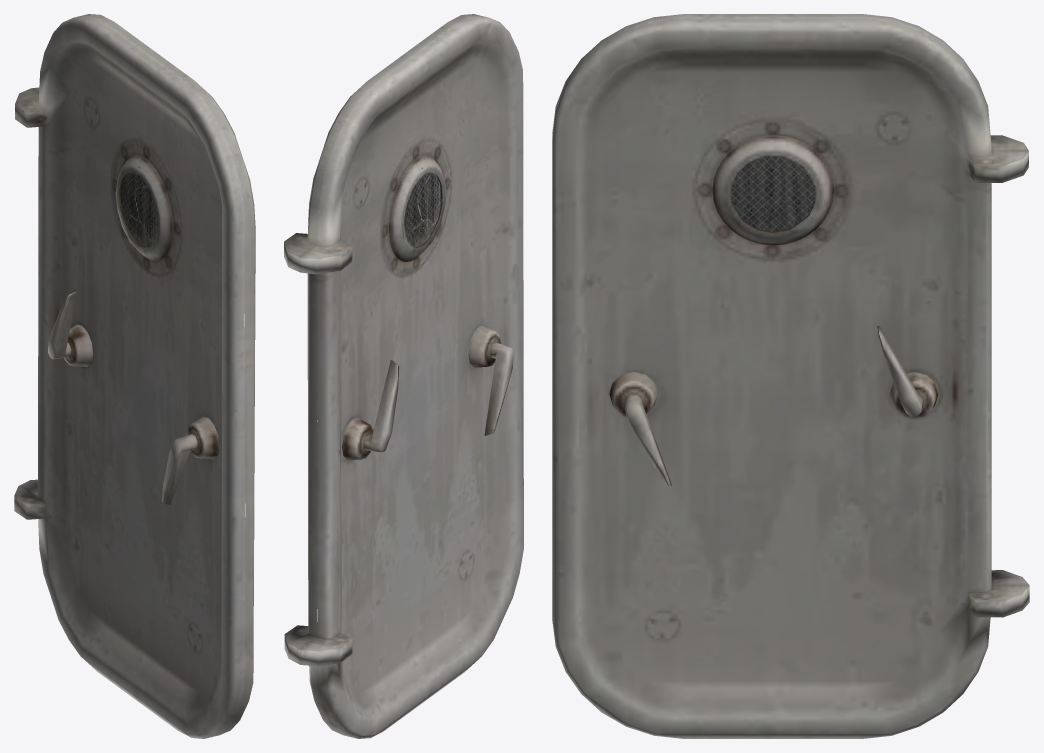
Rendered from door.hinged.cargo_ship_side.glb.
3 renders of one model, left to right at view 1: azimuth 30°, elevation 25°; view 2: azimuth 150°, elevation 25°; view 3: azimuth 270°, elevation 25°, orthographic. The views are drawn at different scales.
Visible parts, largest first — view 1: ship_door_two_colors_LOD0; view 2: ship_door_two_colors_LOD0; view 3: ship_door_two_colors_LOD0.
Part boxes in pixels (bbox=[...]): ship_door_two_colors_LOD0: bbox=[14, 14, 255, 738]; ship_door_two_colors_LOD0: bbox=[284, 14, 523, 738]; ship_door_two_colors_LOD0: bbox=[552, 14, 1029, 738].
Size of the model in its own units: 0.2341 by 2.16 by 1.3.
Materials: 3 (3 with a texture image).
